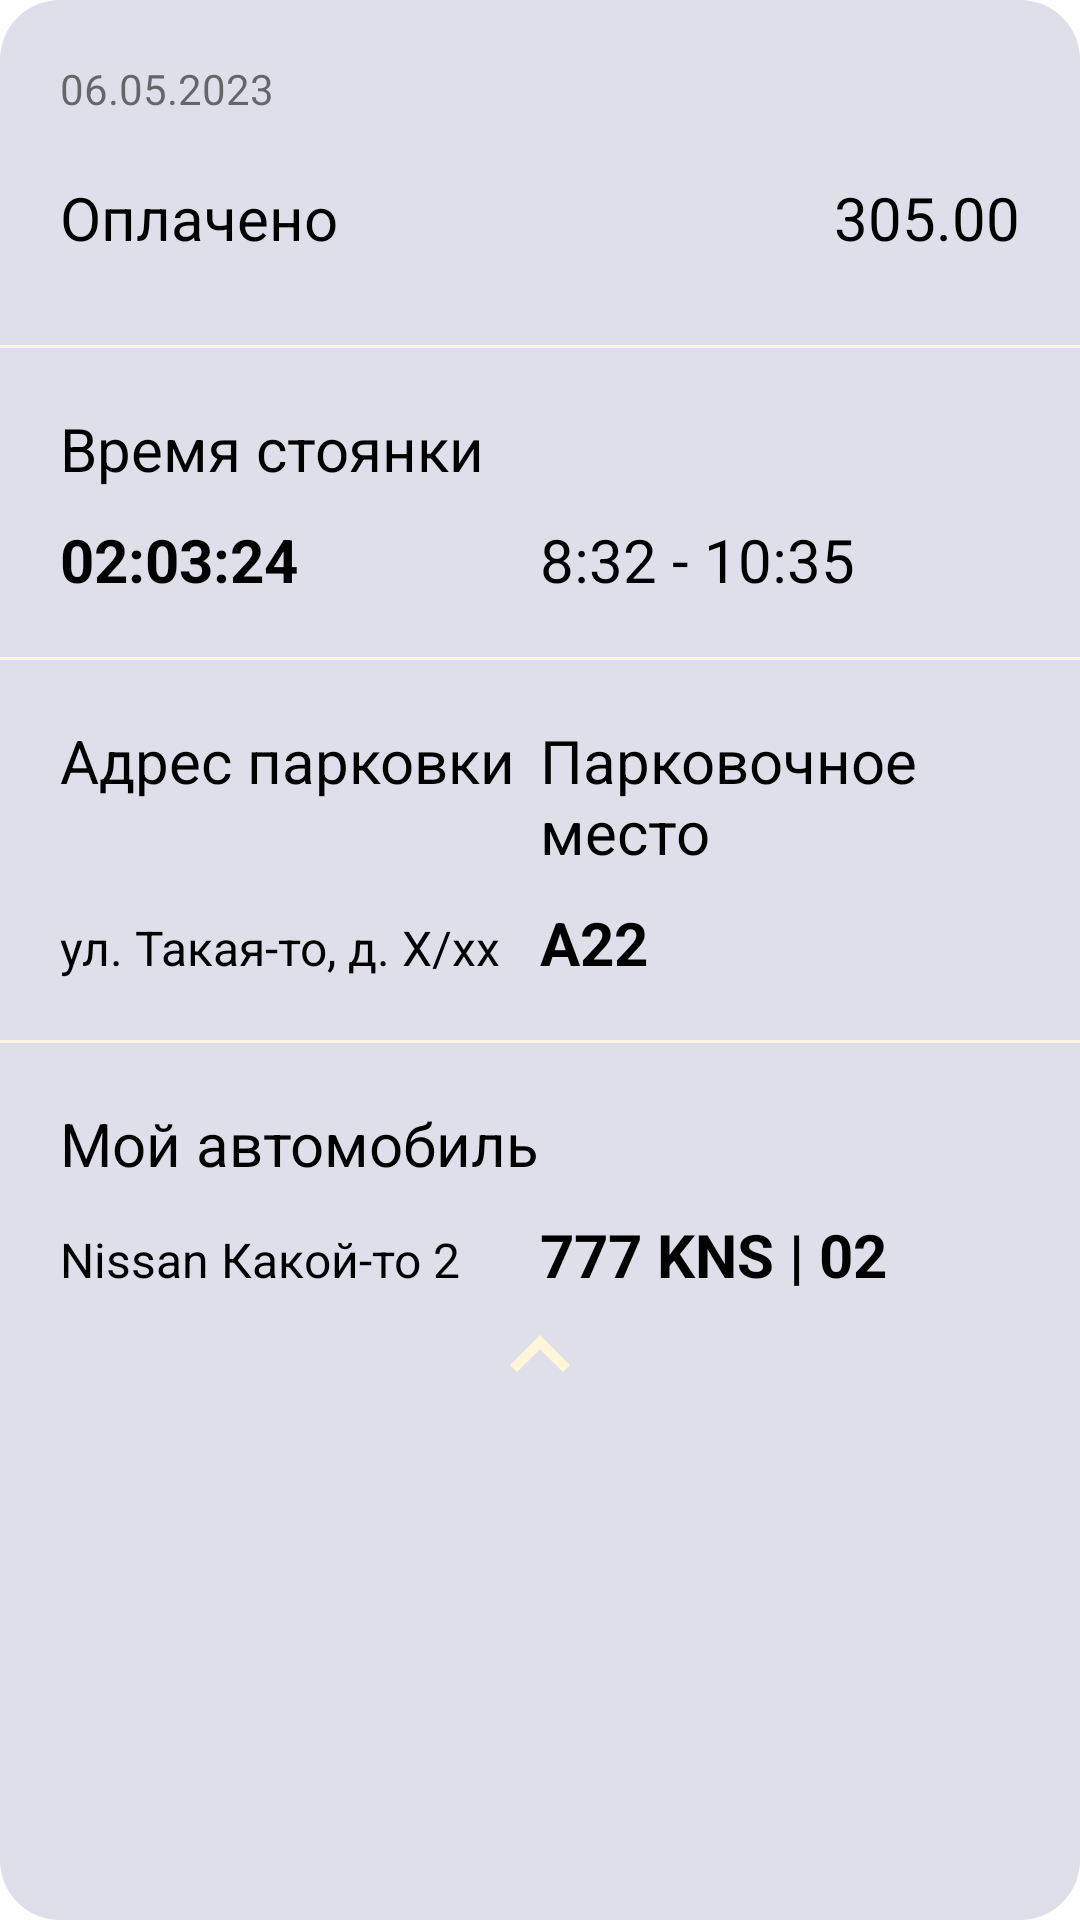

Named icons in this screenshot (1080x1920) and their centers, (x,y):
arrow up: (540,1353)
